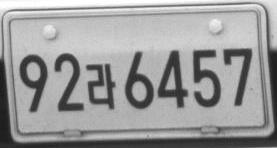2: (52, 52, 84, 111)
4: (156, 48, 188, 108)
5: (191, 48, 221, 107)
6: (123, 51, 154, 110)
7: (223, 47, 252, 106)
9: (18, 53, 48, 113)
라: (86, 62, 116, 109)
